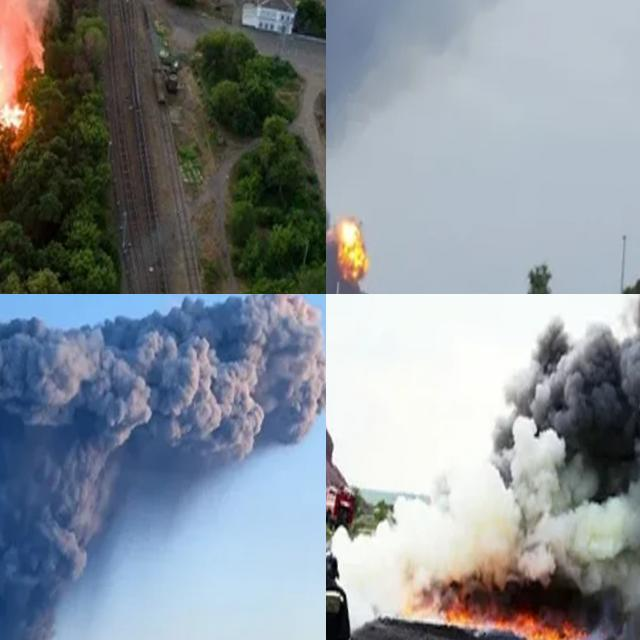smoke: (0, 294, 326, 640), (463, 294, 640, 617), (326, 0, 487, 294)
